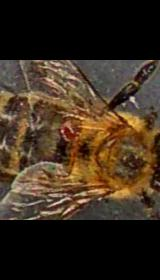varroa_mite: (57, 112, 86, 144)
